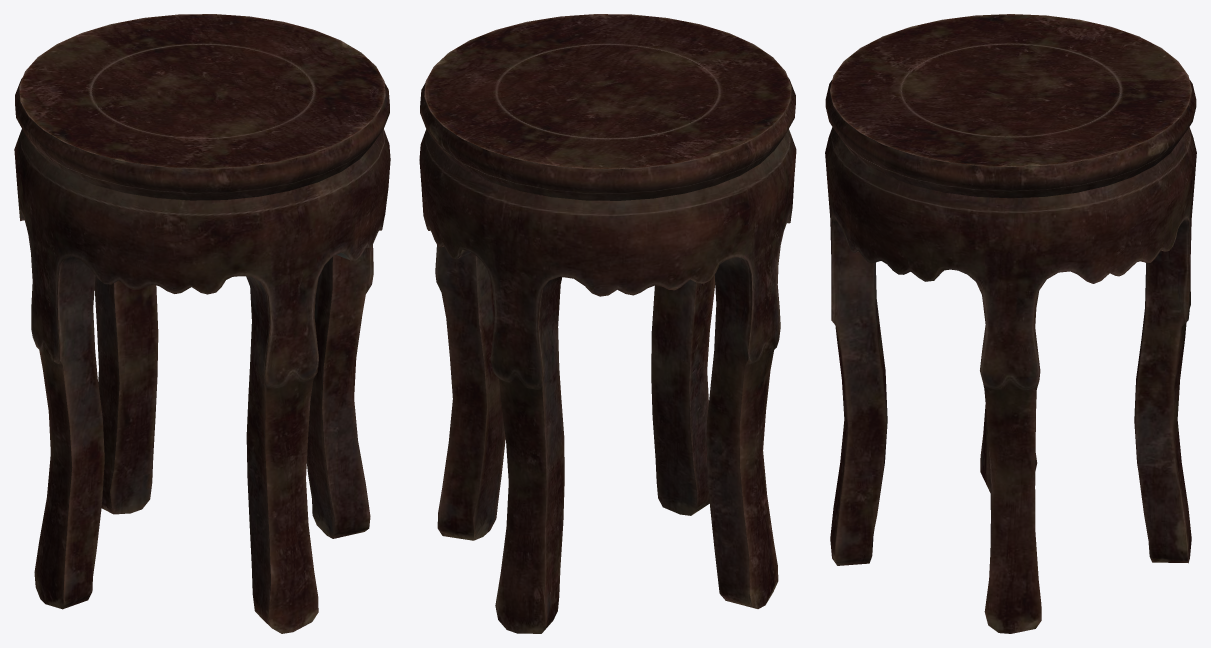
File: WoodenTable_02.glb
3 renders of one model, left to right at view 1: azimuth 30°, elevation 25°; view 2: azimuth 150°, elevation 25°; view 3: azimuth 270°, elevation 25°, orthographic.
Visible parts, largest first — view 1: WoodenTable_02; view 2: WoodenTable_02; view 3: WoodenTable_02.
Boxes of the visible parts, box(x1,y1,x2,y2) form: WoodenTable_02: box(14, 14, 390, 633); WoodenTable_02: box(419, 14, 796, 633); WoodenTable_02: box(825, 14, 1196, 633).
Size of the model in its own units: 0.3007 by 0.4177 by 0.3007.
1 material, 1 textured.
